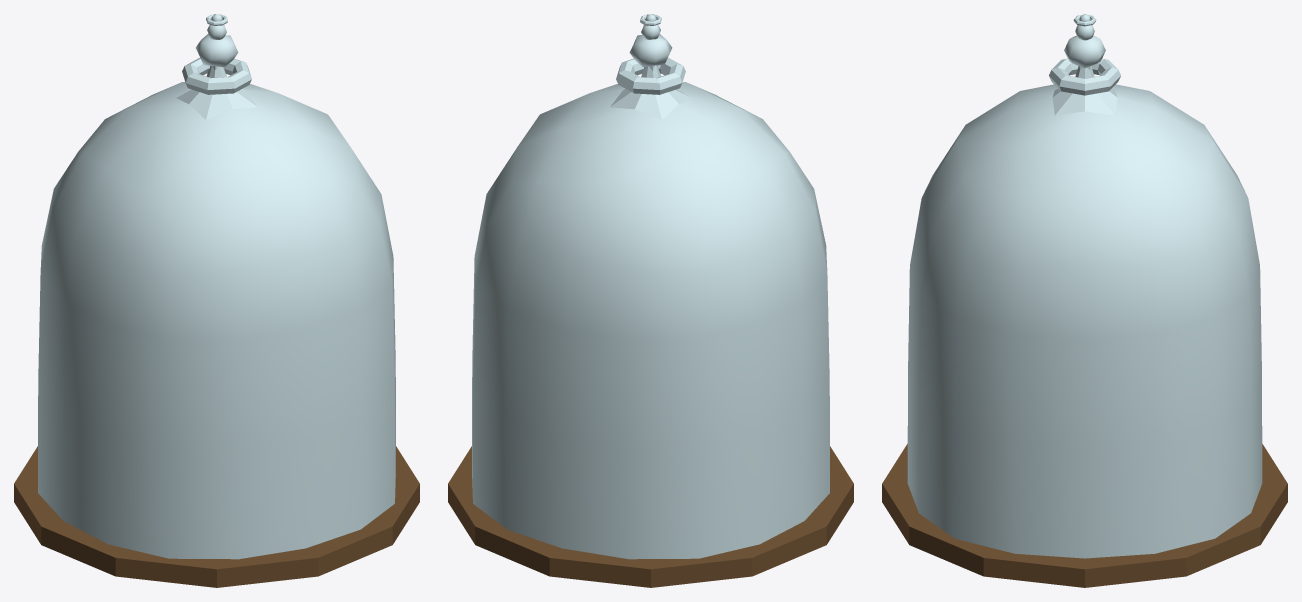
The model's file is red_flower.glb.
3 views of the same model, side by side, from view 1: azimuth 30°, elevation 25°; view 2: azimuth 150°, elevation 25°; view 3: azimuth 270°, elevation 25° (orthographic).
Parts seen in each view (by area): view 1: case_main, case_base, case_deco_torus_bottom, case_deco_sphere_bottom; view 2: case_main, case_base, case_deco_torus_bottom, case_deco_sphere_bottom; view 3: case_main, case_base, case_deco_torus_bottom, case_deco_sphere_bottom.
Boxes of the visible parts, x1,y1,x2,y2 form: case_main: [38, 65, 395, 559]; case_base: [14, 446, 419, 587]; case_deco_torus_bottom: [182, 57, 251, 94]; case_deco_sphere_bottom: [195, 33, 238, 67]; case_main: [472, 65, 829, 559]; case_base: [448, 446, 853, 587]; case_deco_torus_bottom: [616, 57, 685, 94]; case_deco_sphere_bottom: [629, 34, 672, 67]; case_main: [907, 66, 1262, 558]; case_base: [882, 444, 1287, 587]; case_deco_torus_bottom: [1049, 58, 1120, 95]; case_deco_sphere_bottom: [1064, 36, 1105, 68].
Size of the model in its own units: 10.79 by 14.32 by 10.79.
